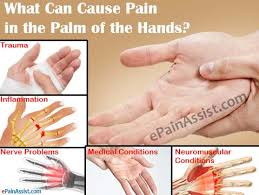palm: (163, 44, 240, 113), (107, 151, 144, 180), (14, 71, 61, 92)
